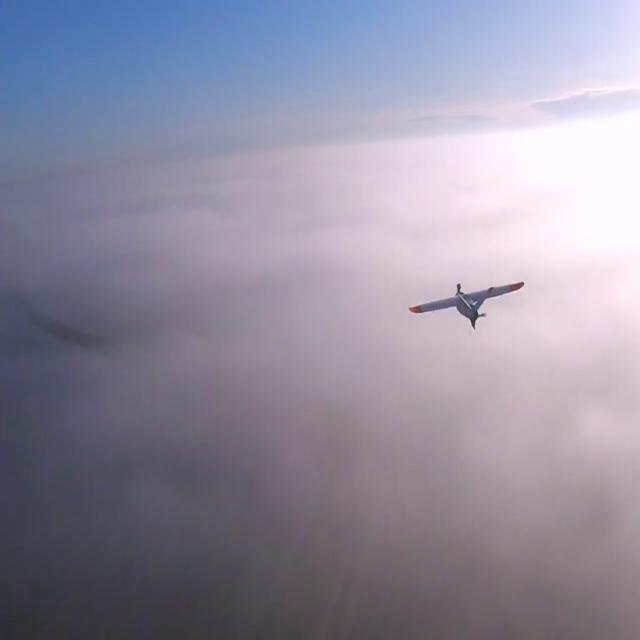iha: (440, 278, 494, 333)
